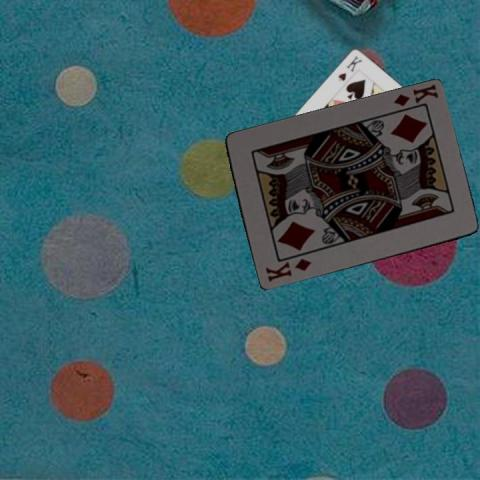Kd: (262, 255, 313, 284), (391, 81, 439, 109)
Ks: (336, 52, 364, 82)
